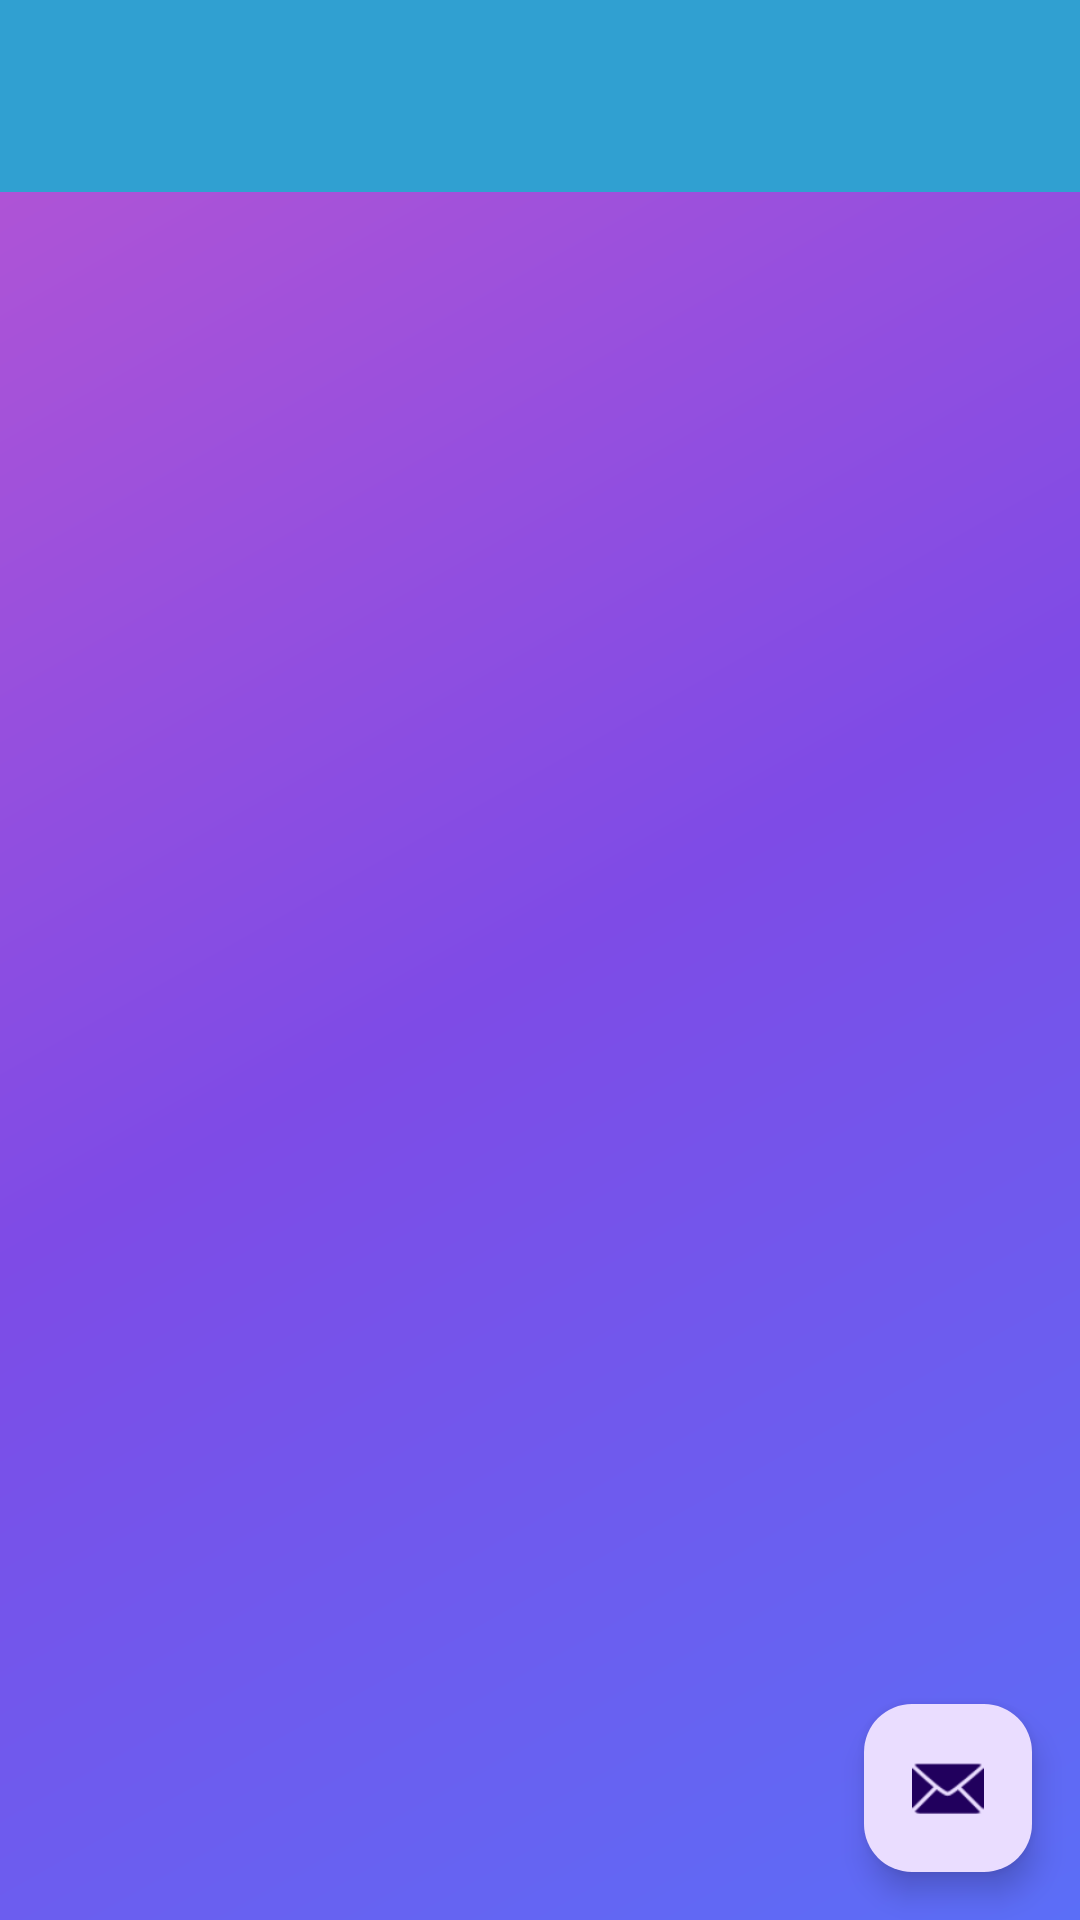

Icons on this 1080 x 1920 Android screen, each with its box as (x1, y1, x2, y2):
Send email: (864, 1704, 1032, 1872)
